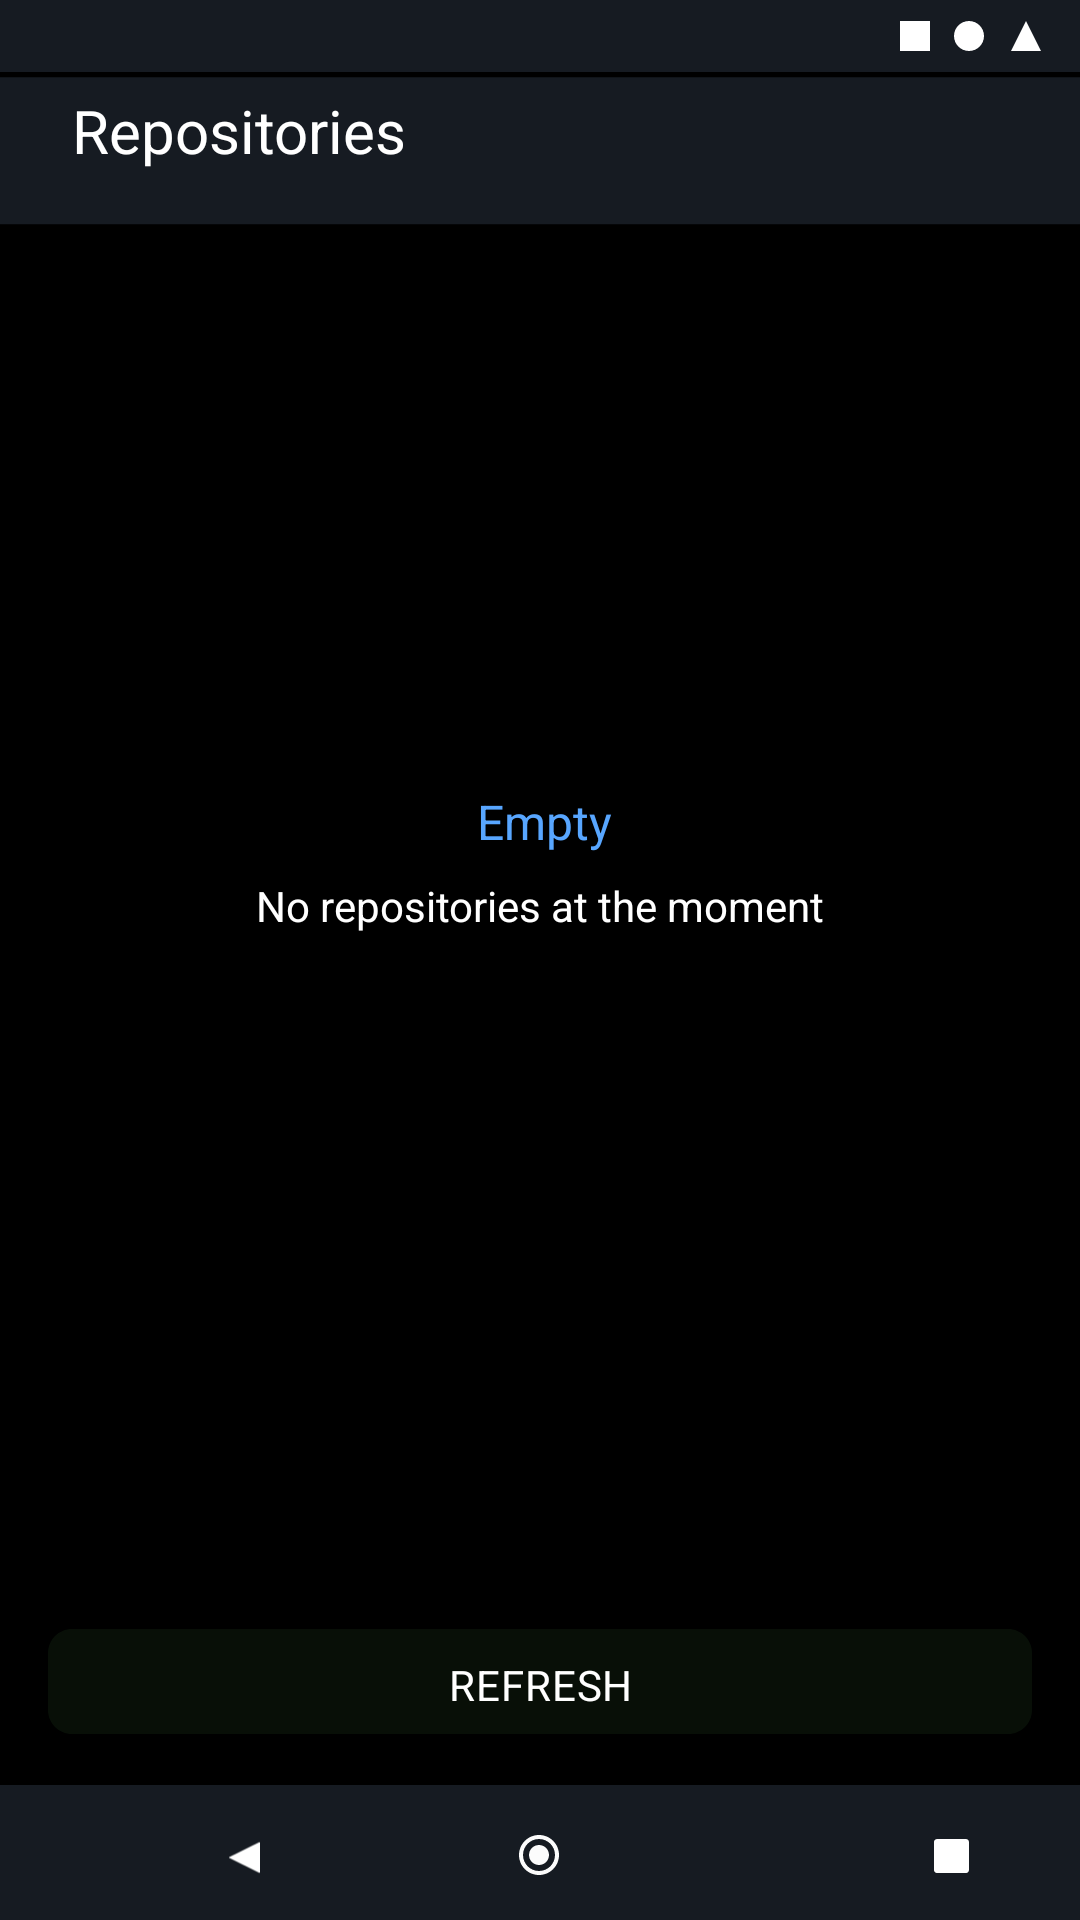

Locate icon controls on the screen. Image size 1080 × 1920, boxes as (x1, y1, x2, y2).
radio checked: (519, 1835, 559, 1875)
